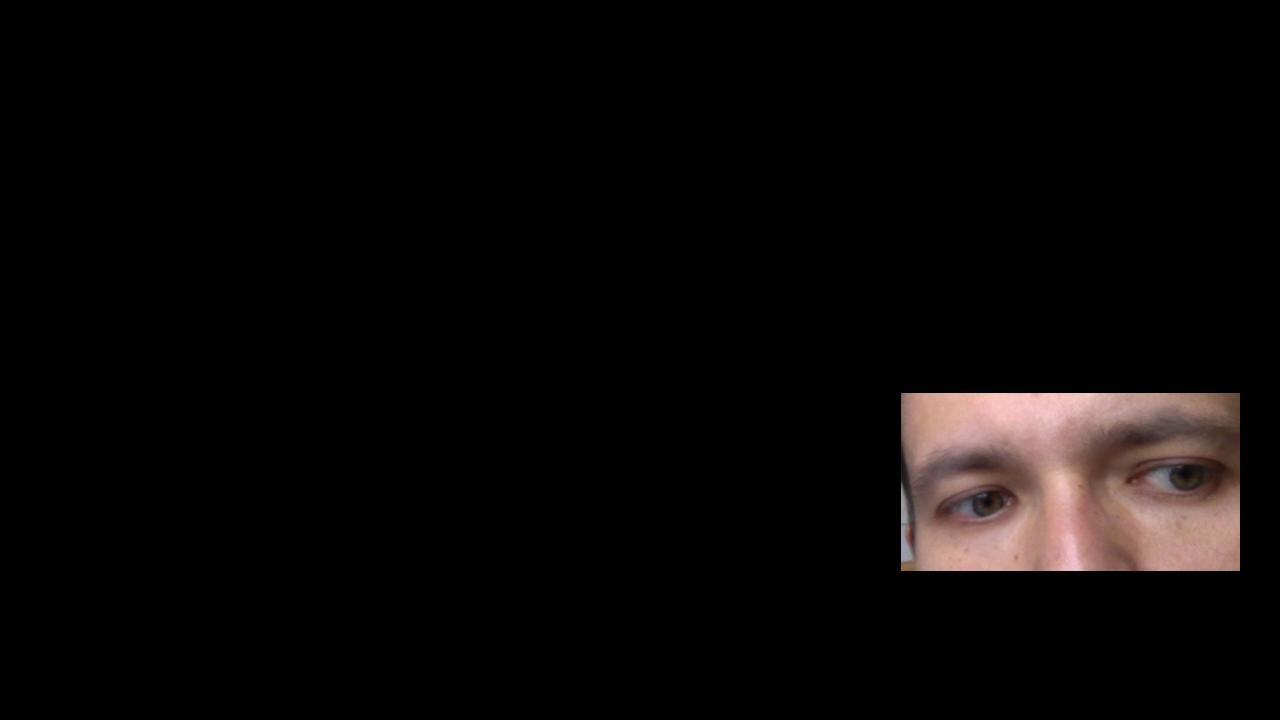eye: (968, 490, 1004, 516), (1169, 464, 1205, 490)
